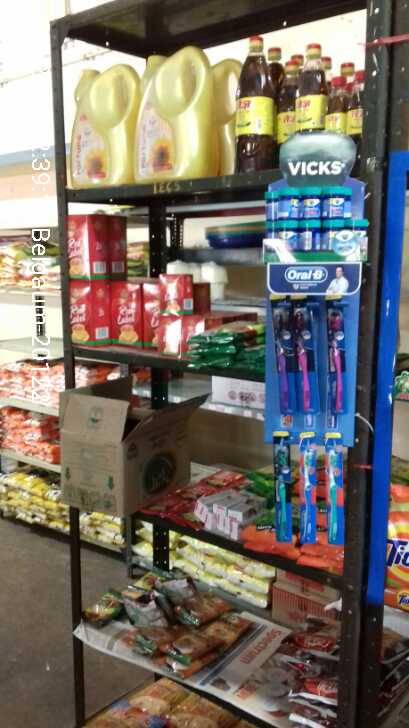pharmacy: (268, 310, 358, 420), (272, 437, 353, 548), (264, 186, 364, 258)
